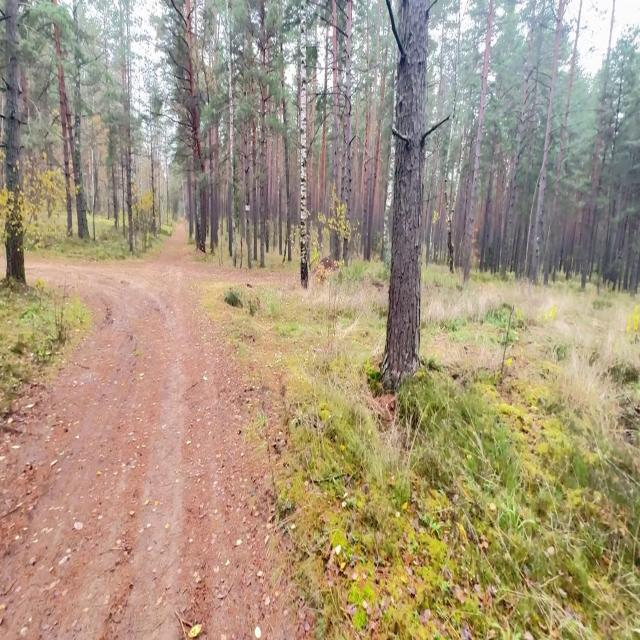trees: (381, 0, 428, 389), (165, 0, 208, 252), (581, 0, 615, 289), (530, 0, 564, 282), (501, 0, 535, 277), (463, 0, 493, 281), (54, 3, 87, 237), (550, 0, 582, 227), (3, 0, 25, 282), (185, 0, 207, 252), (53, 21, 72, 235), (72, 0, 88, 237), (258, 0, 270, 267), (121, 0, 133, 252), (341, 0, 352, 264), (359, 83, 375, 257), (381, 74, 395, 267), (226, 0, 236, 266), (364, 120, 383, 259), (299, 0, 308, 288), (280, 41, 291, 261), (319, 27, 329, 218), (149, 87, 161, 235), (332, 0, 338, 200), (243, 124, 251, 268)
